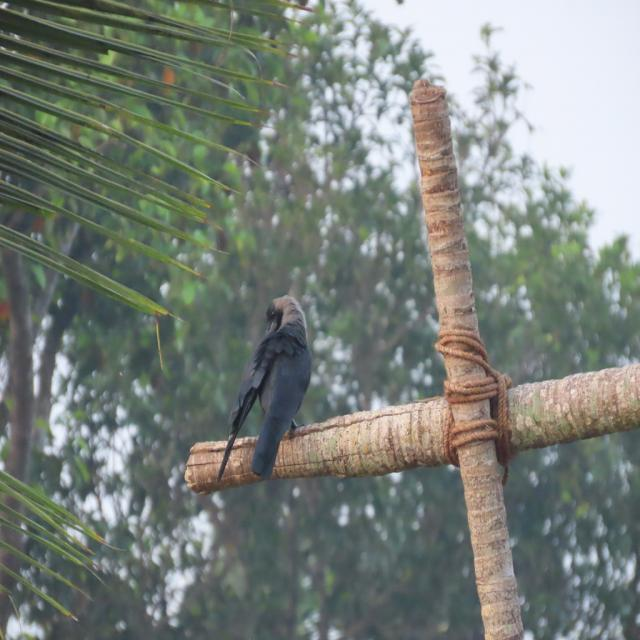bird: (207, 290, 322, 494)
